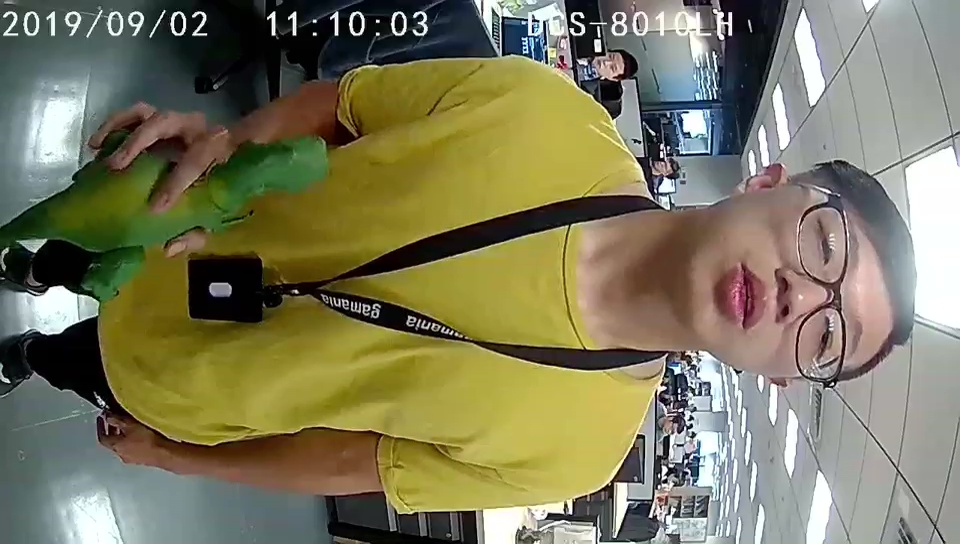rex: (80, 133, 329, 302)
